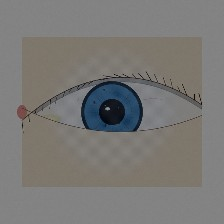pinguecula_lesion: (28, 101, 73, 136)
